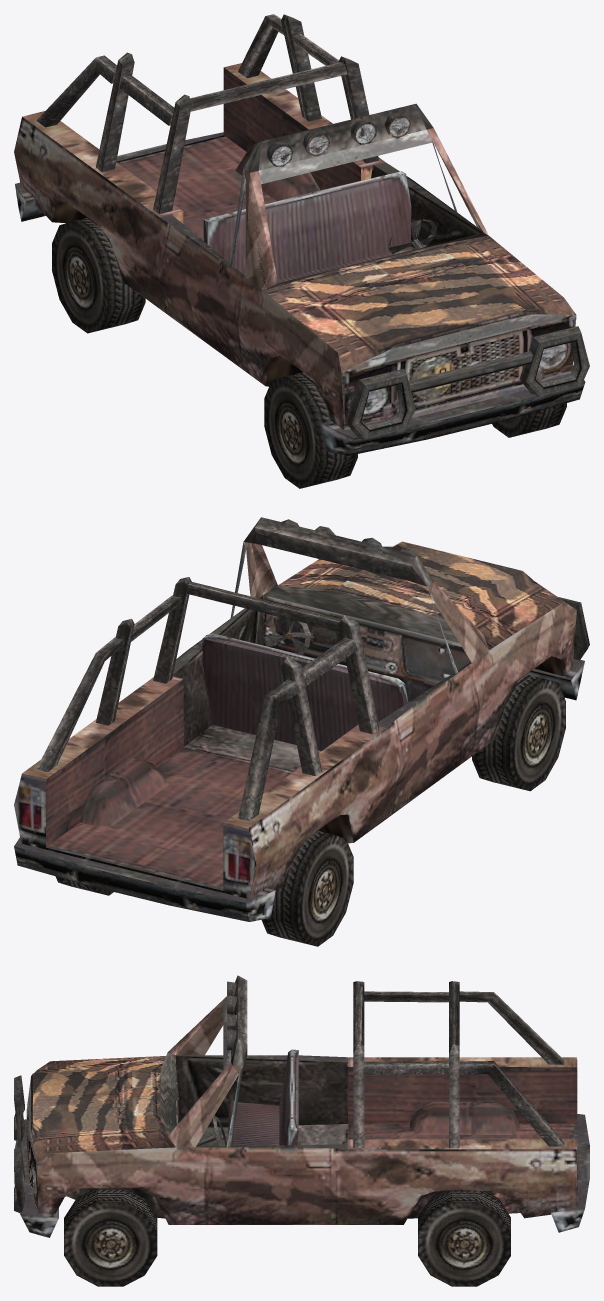
File: etek4p.glb
3 views of the same model, one above another, from view 1: azimuth 30°, elevation 25°; view 2: azimuth 150°, elevation 25°; view 3: azimuth 270°, elevation 25° (orthographic). The views are drawn at different scales.
Visible parts, largest first — view 1: _etek4p; view 2: _etek4p; view 3: _etek4p.
Part boxes in pixels (x1,y1,x2,y2): _etek4p: (14, 14, 589, 488); _etek4p: (14, 517, 589, 946); _etek4p: (14, 975, 589, 1286).
Size of the model in its own units: 2.43 by 2.56 by 5.82.
2 materials, 2 textured.
